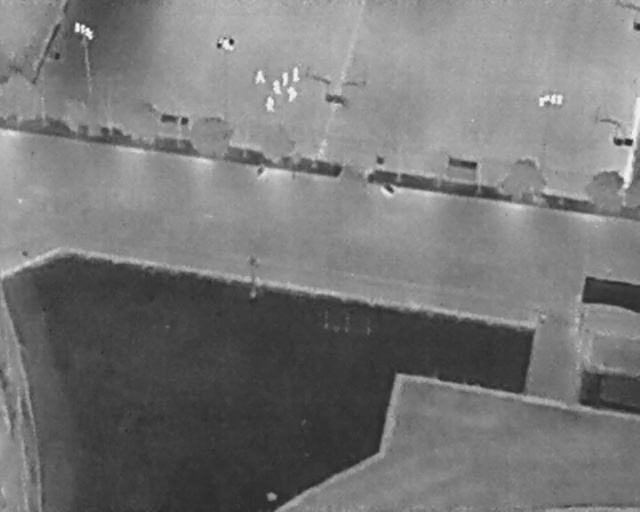Person: (255, 70, 266, 85), (272, 79, 282, 94), (266, 97, 275, 113), (288, 86, 297, 102), (292, 66, 300, 83), (281, 72, 289, 88)
